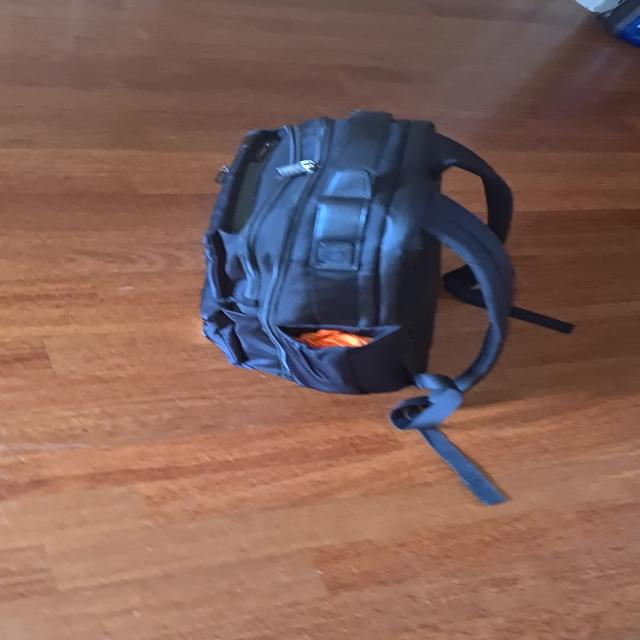backpack: (185, 96, 525, 400)
